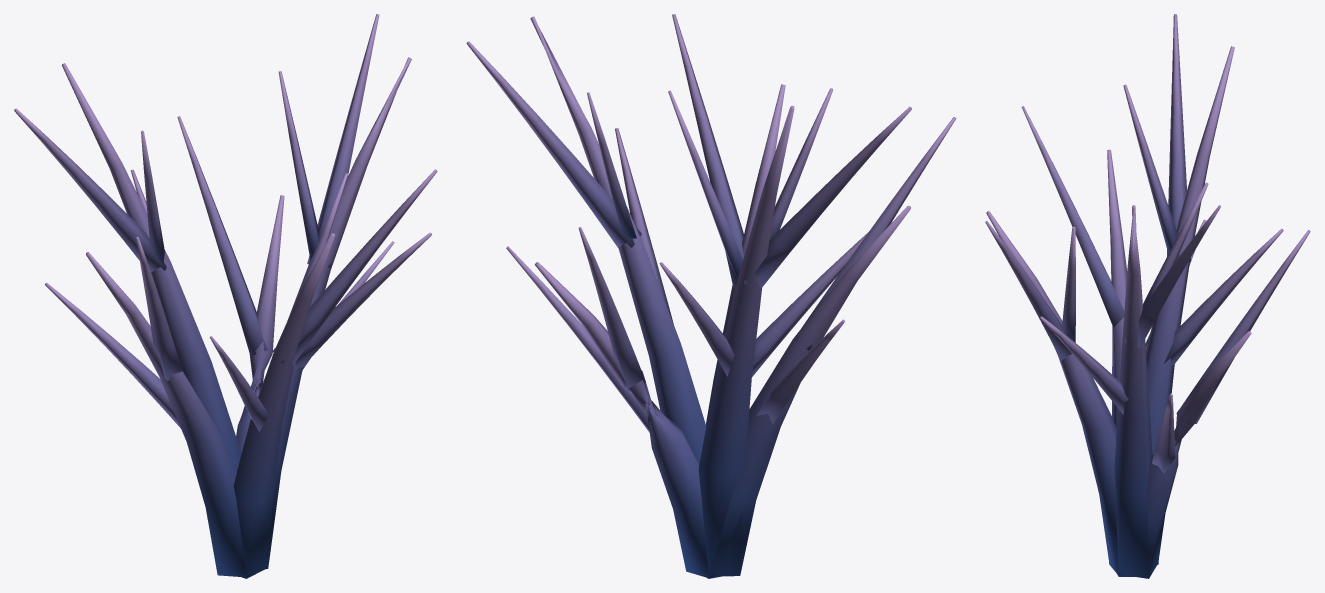
The model's file is coral-antler.glb.
3 views of the same model, side by side, from view 1: azimuth 30°, elevation 25°; view 2: azimuth 150°, elevation 25°; view 3: azimuth 270°, elevation 25° (orthographic). The views are drawn at different scales.
Visible parts, largest first — view 1: coral-antler; view 2: coral-antler; view 3: coral-antler.
Boxes of the visible parts, bbox=[...] form: coral-antler: bbox=[14, 14, 437, 578]; coral-antler: bbox=[466, 14, 956, 578]; coral-antler: bbox=[985, 14, 1310, 578].
Size of the model in its own units: 1.84 by 2.25 by 1.42.
